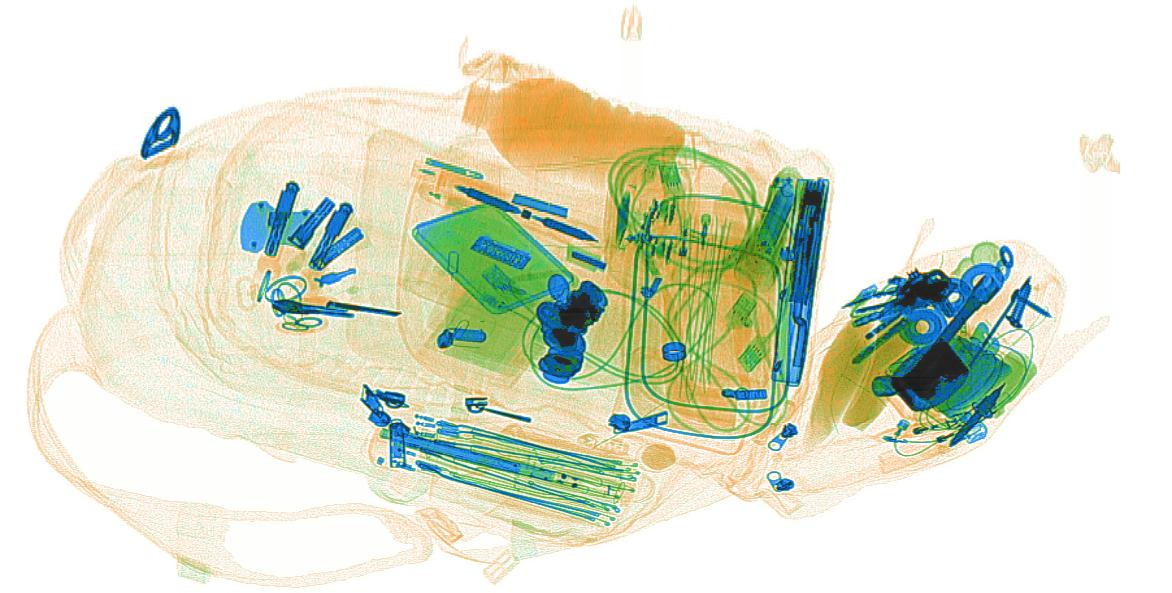battery: (756, 186, 794, 251)
lighter: (876, 419, 987, 477), (874, 408, 975, 450)
